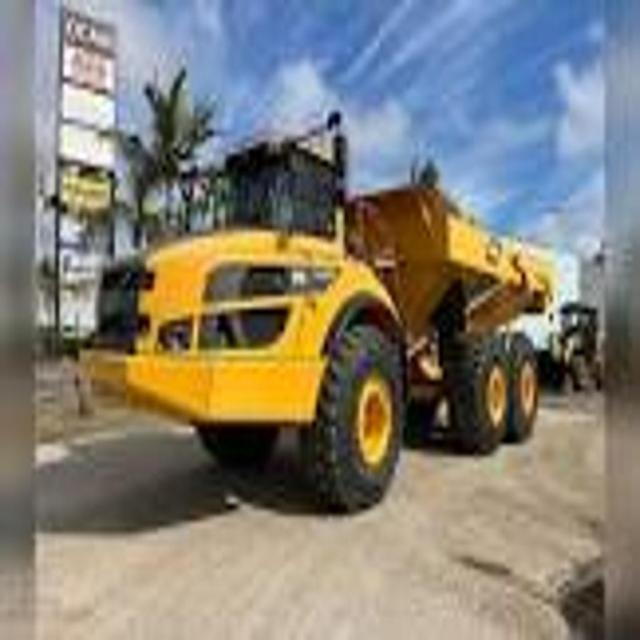dump_truck: (81, 116, 562, 512)
